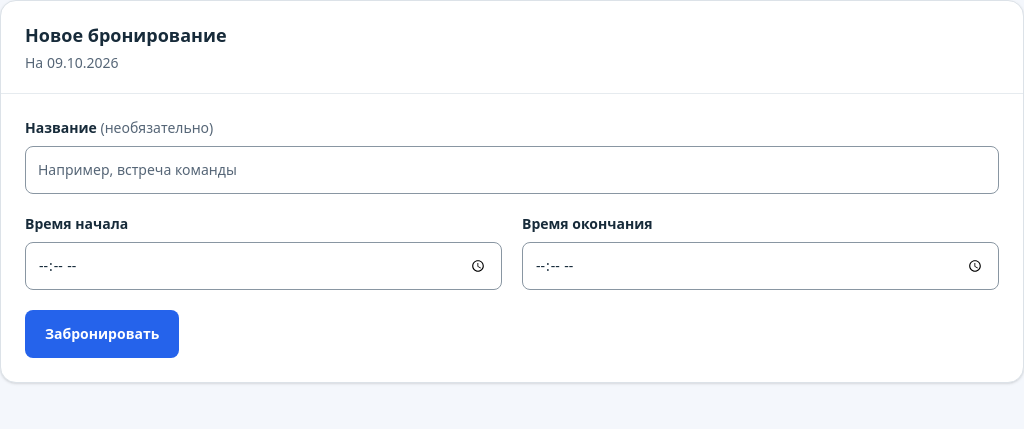
Test: still validates against actual submission time before the next timer tick
Type "10:15" into the time field labelled "Время начала". click: (264, 266)
box: [25, 242, 502, 290]
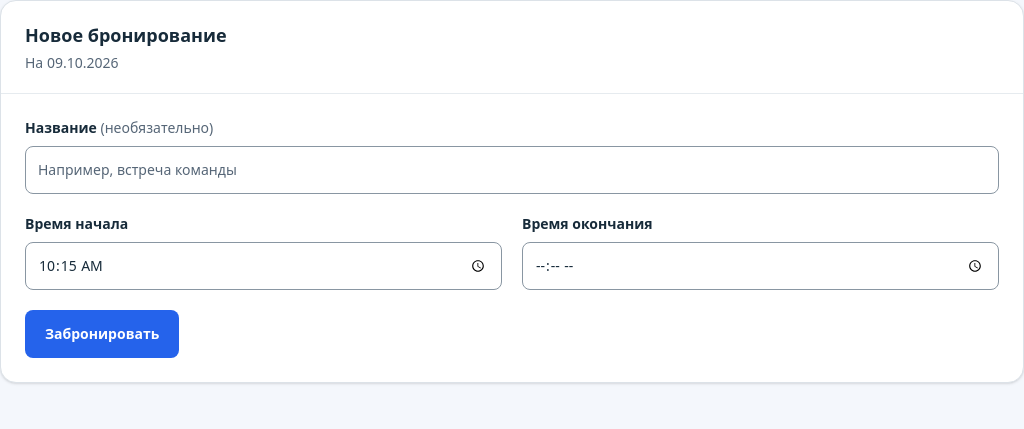
Type "10:45" into the time field labelled "Время окончания". click: (760, 266)
box: [522, 242, 999, 290]
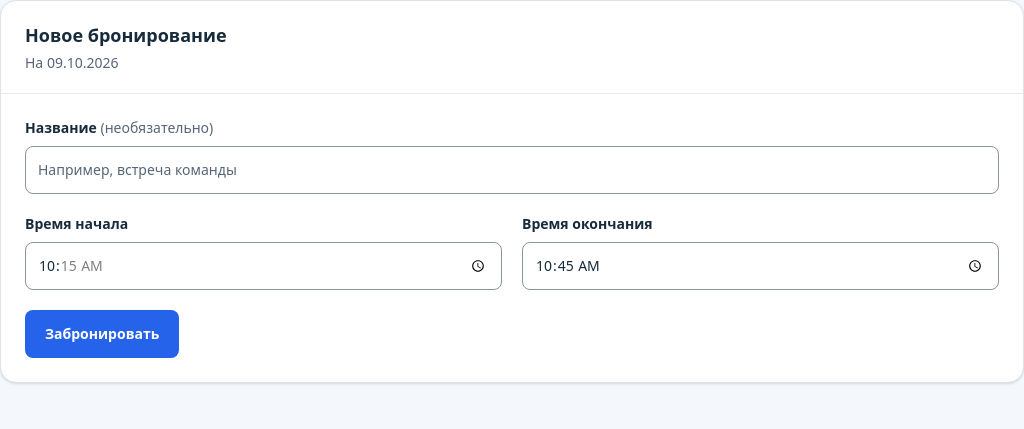
Submit the form
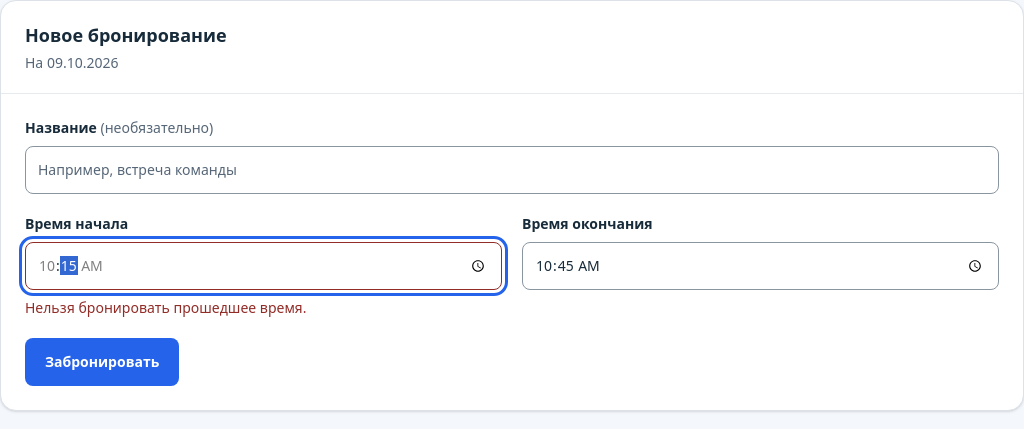
Now the message reads "Нельзя бронировать прошедшее время.", box [25, 298, 306, 317]
